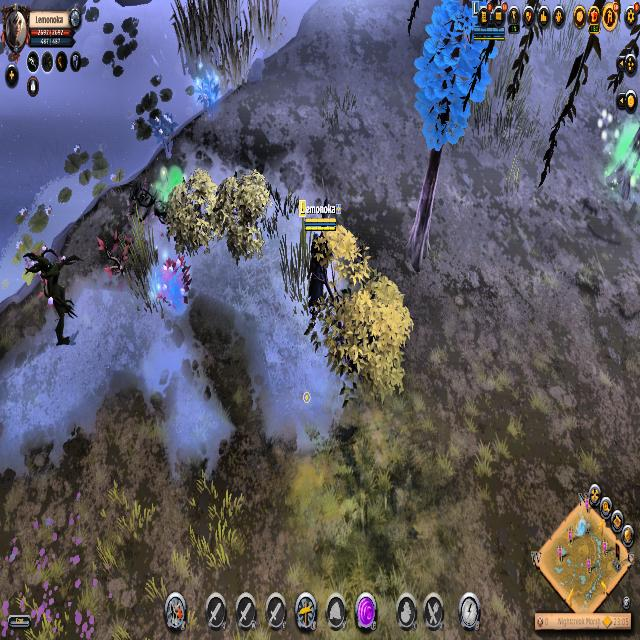fiber tier 4: (150, 110, 180, 158), (196, 69, 221, 125)
fiber tier 5: (156, 252, 194, 310)
